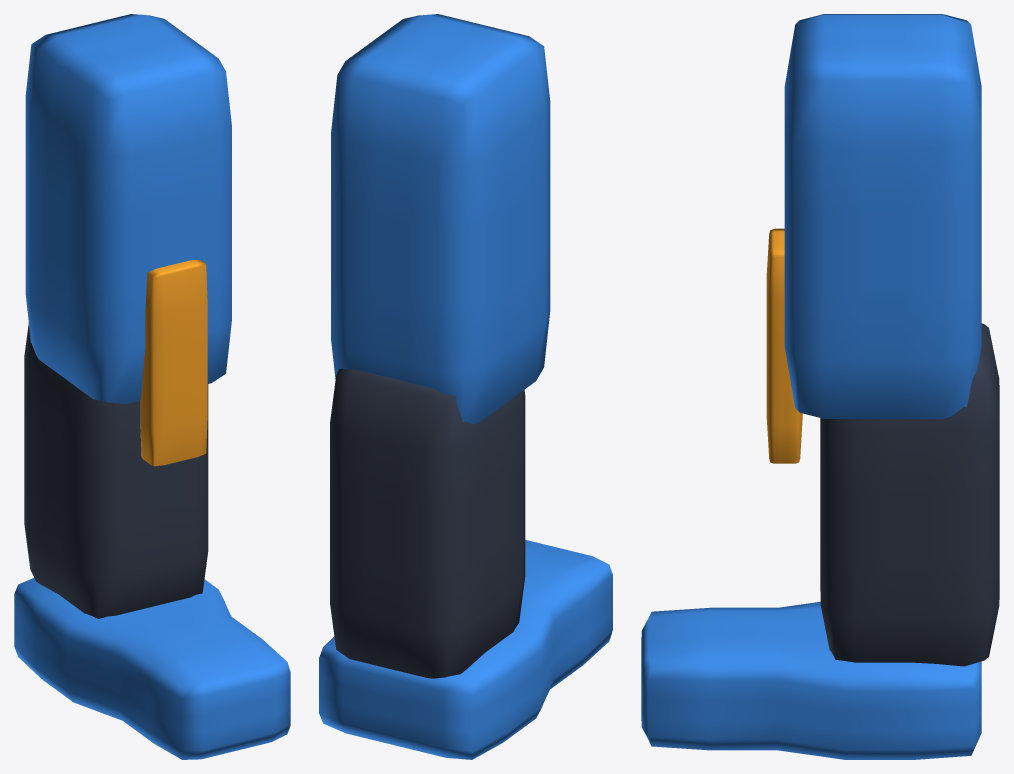
Rendered from leg_strider.obj.
3 renders of one model, left to right at view 1: azimuth 30°, elevation 25°; view 2: azimuth 150°, elevation 25°; view 3: azimuth 270°, elevation 25°, orthographic. The views are drawn at different scales.
Size of the model in its own units: 0.22 by 0.85 by 0.4.
